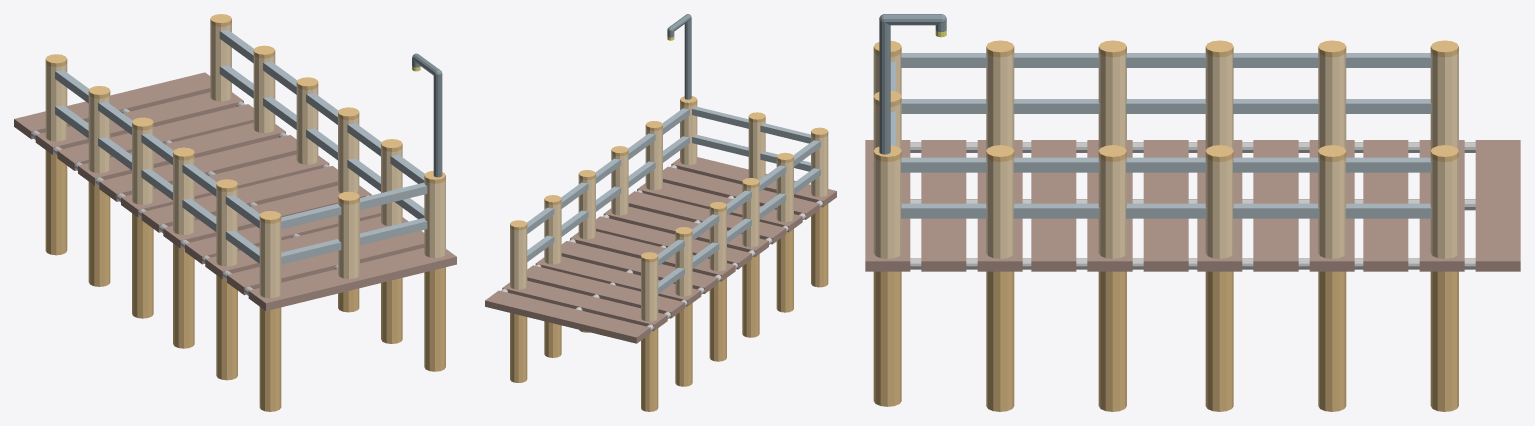
Rendered from boardwalk_jacobcherchio_ccby.glb.
3 views of the same model, side by side, from view 1: azimuth 30°, elevation 25°; view 2: azimuth 150°, elevation 25°; view 3: azimuth 270°, elevation 25° (orthographic). The views are drawn at different scales.
Visible parts, largest first — view 1: group186142698, group2133421215, group468694053, group1947173566, group1890098917, group1963344325, group87496227, group1706770614, group2048345210, group1432572726, group818875020, group1560896126 (+16 smaller); view 2: group186142698, group2133421215, group1890098917, group2048345210, group1706770614, group1947173566, group1995722512, group1432572726, group87496227, group1963344325, group818875020, group1365807431 (+15 smaller); view 3: group2133421215, group186142698, group1890098917, group1947173566, group1995722512, group87496227, group1963344325, group1706770614, group563191099, group1775137350, group16633251, group1948102459 (+14 smaller).
Part boxes in pixels (box(x1,y1,x2,y2)): group186142698: box(45, 63, 281, 298); group2133421215: box(210, 23, 445, 257); group468694053: box(248, 248, 456, 310); group1947173566: box(99, 135, 296, 201); group1890098917: box(14, 72, 210, 139); group1963344325: box(141, 166, 337, 232); group87496227: box(227, 230, 424, 295); group1706770614: box(57, 104, 253, 170); group2048345210: box(35, 92, 243, 155); group1432572726: box(78, 123, 285, 185); group818875020: box(121, 154, 329, 217); group1560896126: box(259, 307, 281, 411); group186142698: box(641, 134, 828, 321); group2133421215: box(510, 102, 697, 289); group1890098917: box(485, 290, 650, 343); group2048345210: box(502, 280, 667, 330); group1706770614: box(527, 265, 684, 318); group1947173566: box(561, 241, 718, 293); group1995722512: box(628, 191, 786, 244); group1432572726: box(535, 256, 701, 306); group87496227: box(663, 166, 819, 219); group1963344325: box(596, 216, 751, 269); group818875020: box(570, 231, 735, 281); group1365807431: box(603, 206, 768, 256); group2133421215: box(873, 156, 1458, 258); group186142698: box(873, 52, 1458, 149); group1890098917: box(1475, 140, 1520, 271); group1947173566: box(1253, 140, 1298, 271); group1995722512: box(1031, 140, 1076, 271); group87496227: box(921, 140, 966, 271); group1963344325: box(1143, 140, 1188, 271); group1706770614: box(1363, 140, 1408, 271); group563191099: box(986, 271, 1014, 411); group1775137350: box(1098, 271, 1126, 411); group16633251: box(1205, 271, 1233, 411); group1948102459: box(1318, 271, 1346, 411).
Size of the model in its own units: 0.51 by 0.77 by 1.17.
